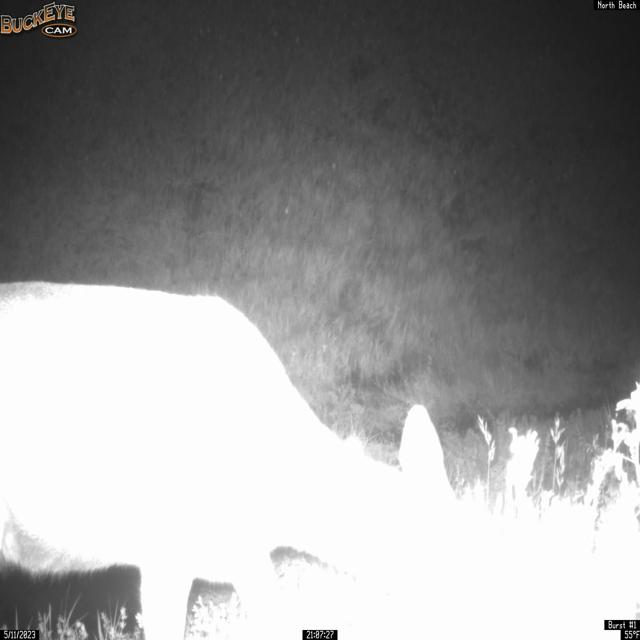deer: (0, 279, 460, 640)
